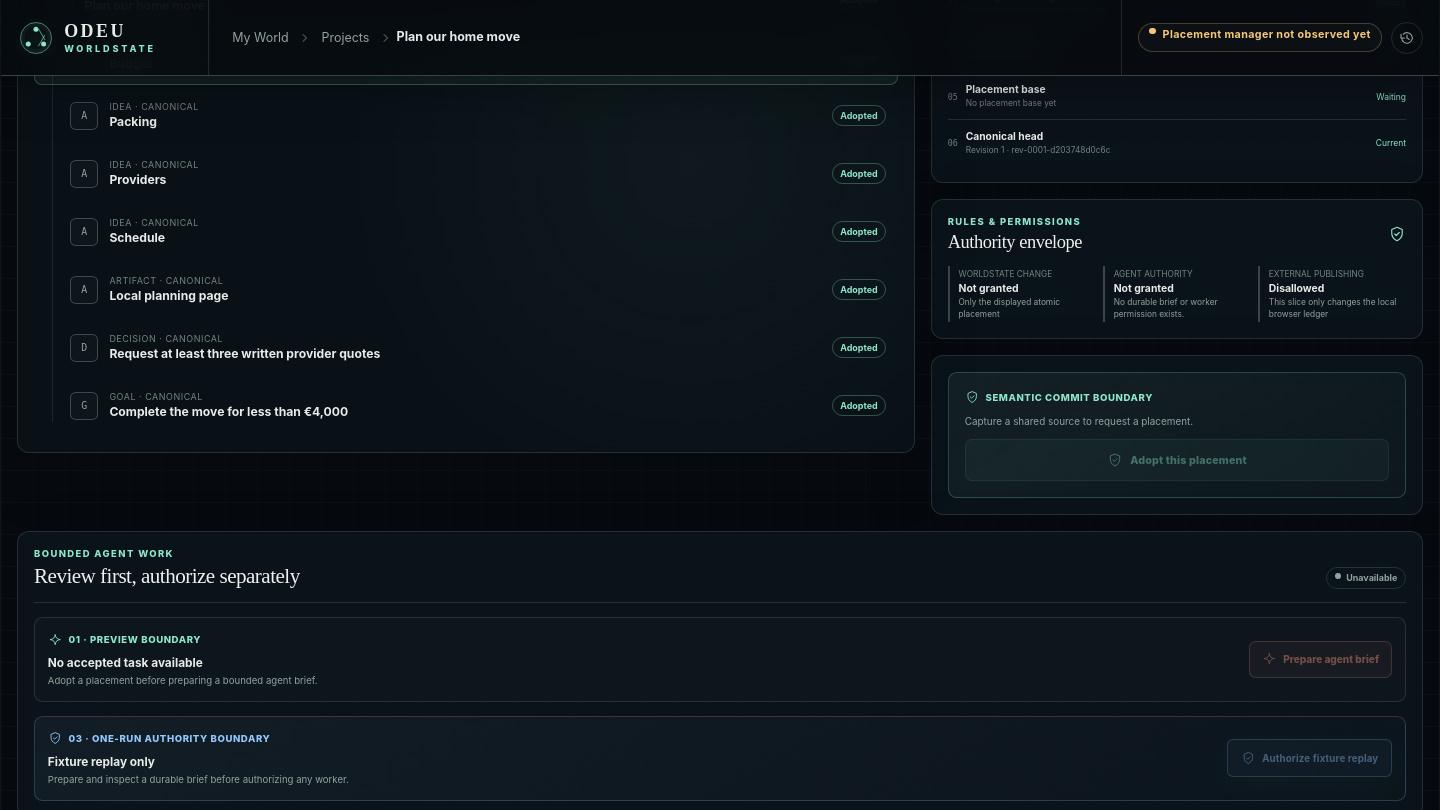
Test: WorldstateWorkbench › keeps the selected kernel object stable while the projection changes
(page scrolled)
Click the button "Complete the move for less than €4,000" at {"x": 156, "y": 397}, box top-left (34, 378), bottom-right (898, 433)
(page scrolled)
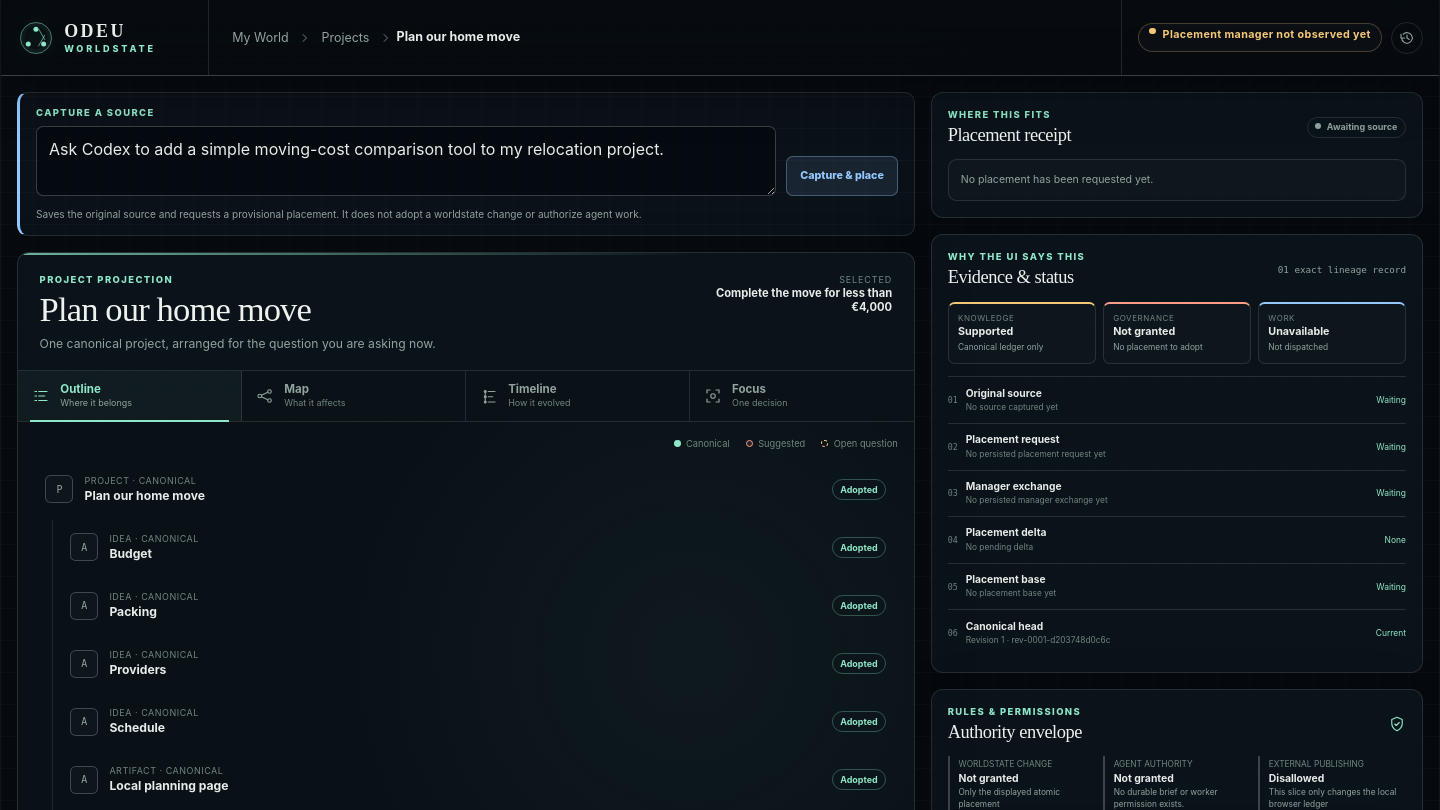
Click the tab "Focus One decision" at {"x": 802, "y": 396}, box top-left (690, 371), bottom-right (914, 421)
(page scrolled)
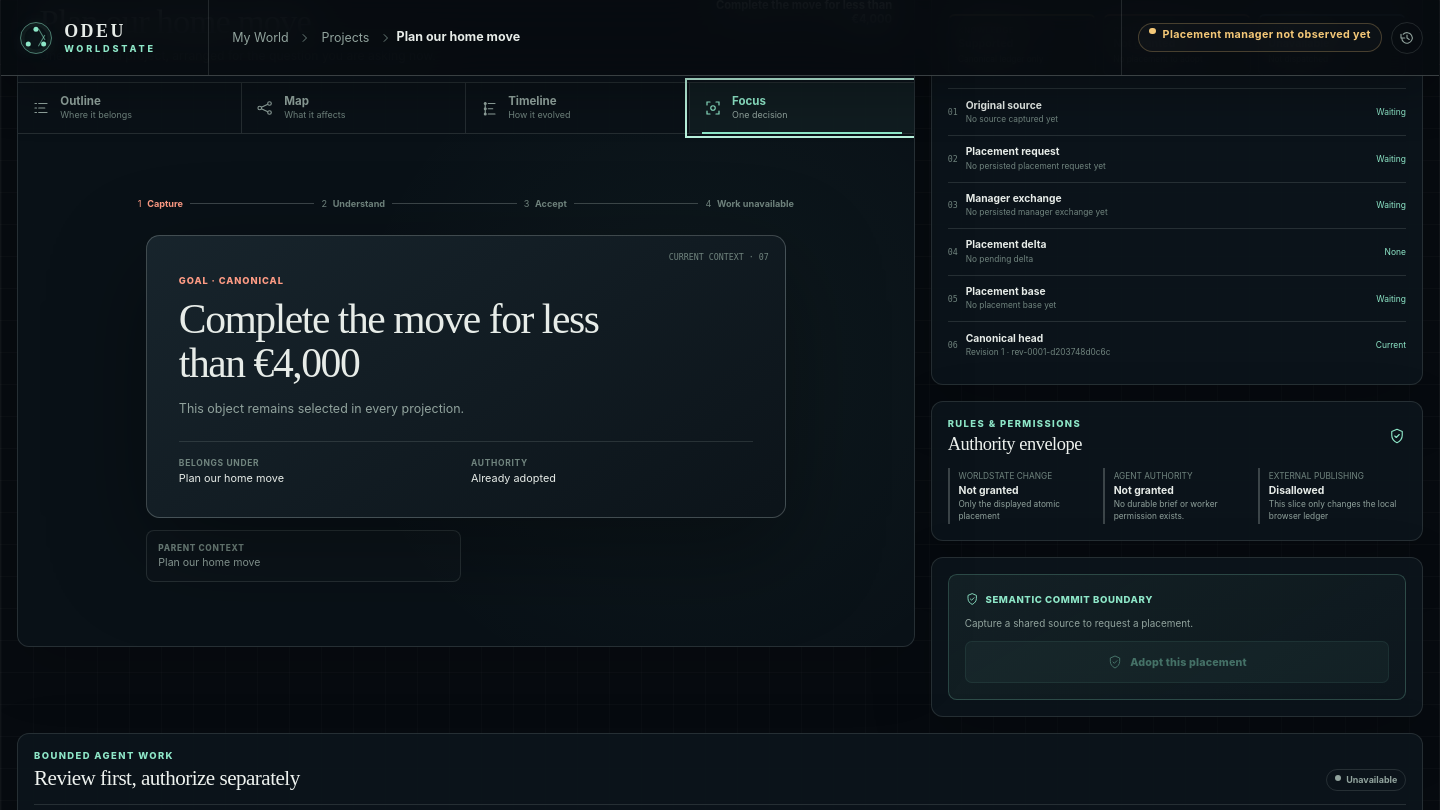
Check: the text "Work unavailable" is shown, box top-left (717, 198), bottom-right (794, 209)
